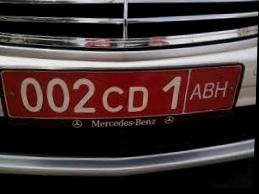License_Plate: (0, 65, 243, 128)
